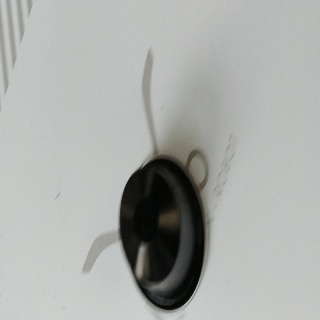capsule_10: (118, 154, 208, 314)
